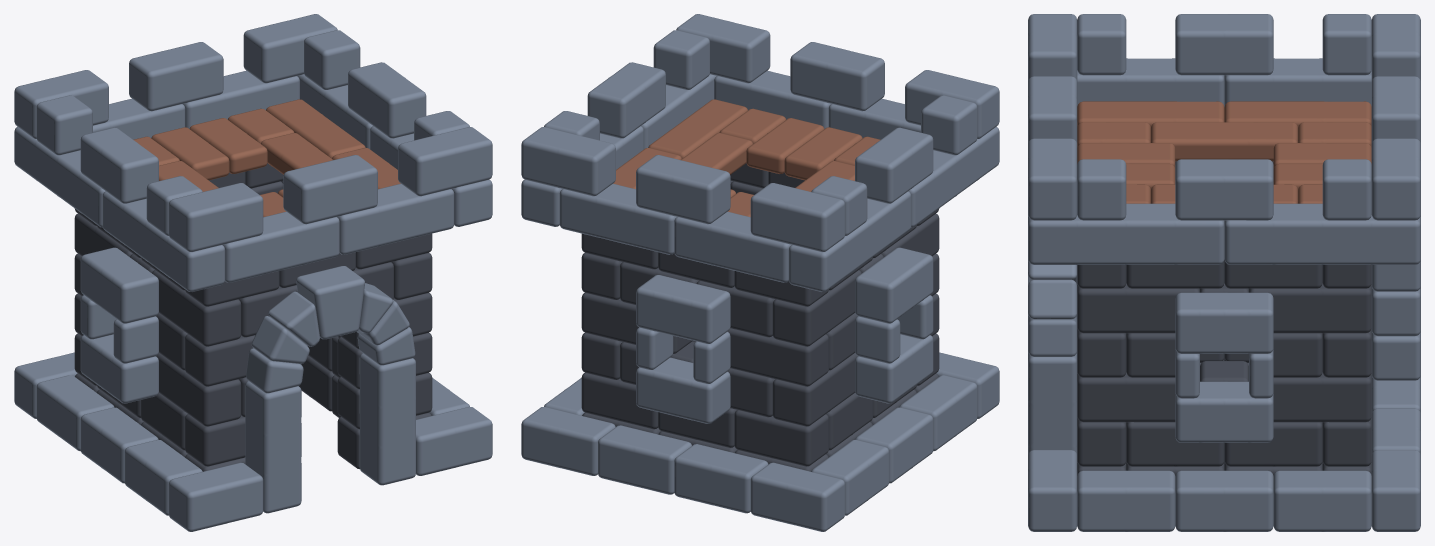
Rendered from oblique.glb.
3 renders of one model, left to right at view 1: azimuth 30°, elevation 25°; view 2: azimuth 150°, elevation 25°; view 3: azimuth 270°, elevation 25°, orthographic. The views are drawn at different scales.
Parts seen in each view (by area): view 1: Cube.001; view 2: Cube.001; view 3: Cube.001.
Boxes of the visible parts, x1,y1,x2,y2 form: Cube.001: [14, 14, 492, 531]; Cube.001: [521, 14, 999, 531]; Cube.001: [1028, 14, 1420, 531].
Size of the model in its own units: 1.6 by 1.6 by 1.6.
